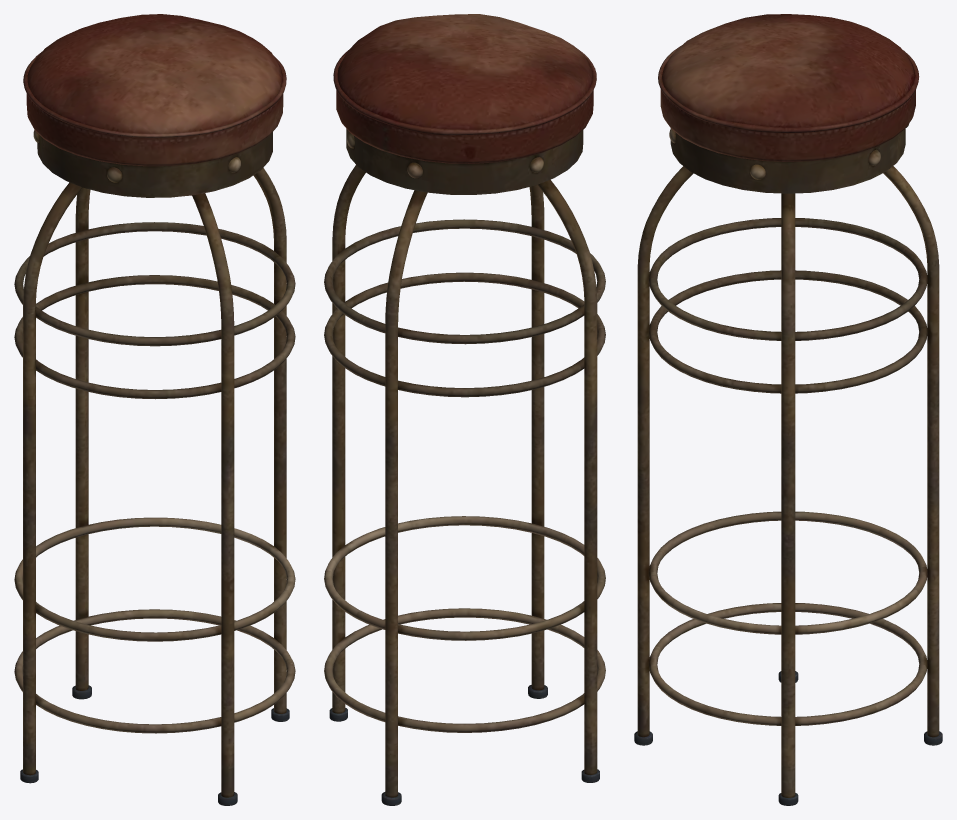
Rendered from metal_stool_01.glb.
3 views of the same model, side by side, from view 1: azimuth 30°, elevation 25°; view 2: azimuth 150°, elevation 25°; view 3: azimuth 270°, elevation 25° (orthographic).
Visible parts, largest first — view 1: metal_stool_01; view 2: metal_stool_01; view 3: metal_stool_01.
Part boxes in pixels (x1=…): metal_stool_01: x1=14, y1=14, x2=295, y2=805; metal_stool_01: x1=324, y1=14, x2=605, y2=805; metal_stool_01: x1=634, y1=14, x2=942, y2=805.
Bounding box in the file's own units: 0.352 × 0.8828 × 0.3546.
Materials: 1 (1 with a texture image).
